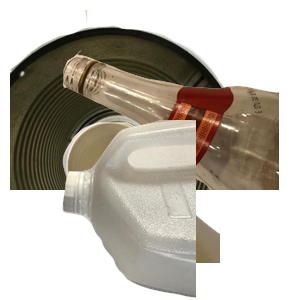glass: (60, 10, 300, 190)
metal: (10, 23, 250, 203)
plastic: (60, 120, 300, 300)
trash: (60, 120, 300, 300)
